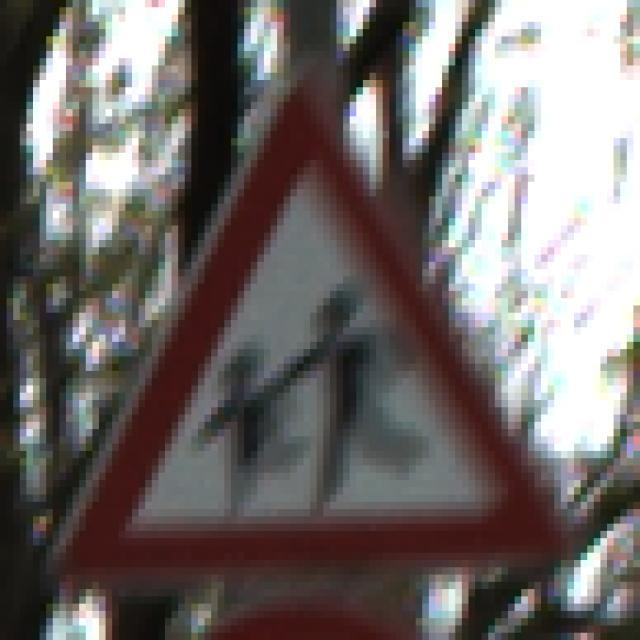school ahead: (48, 78, 543, 566)
